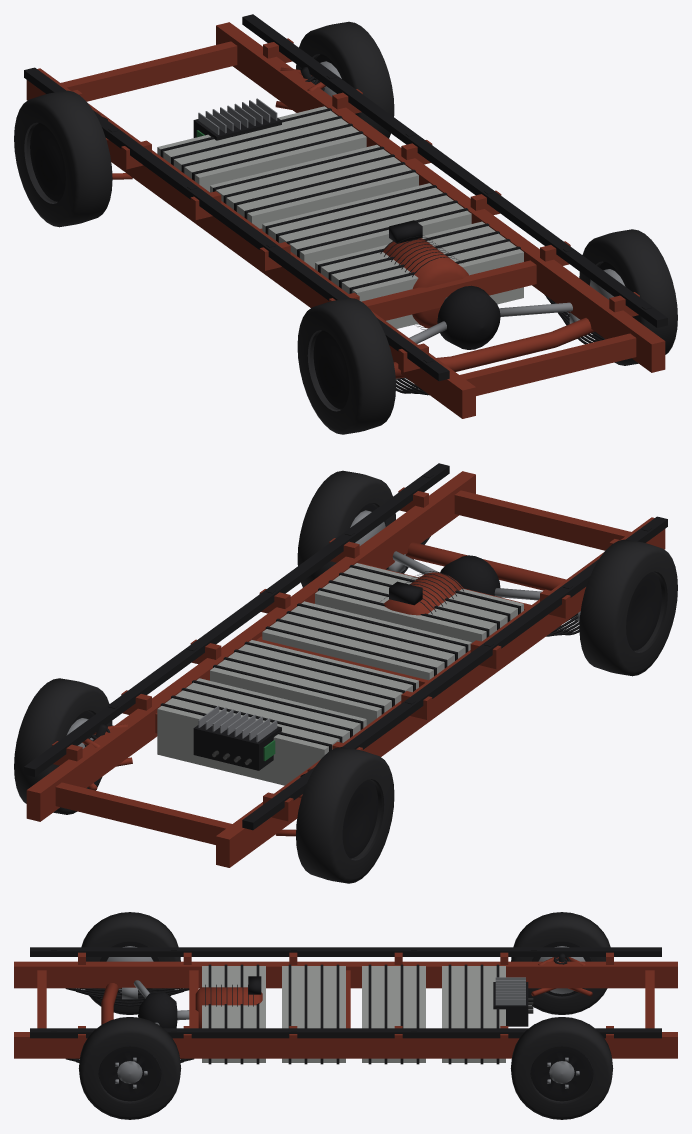
Rendered from harrow_h27.glb.
3 views of the same model, one above another, from view 1: azimuth 30°, elevation 25°; view 2: azimuth 150°, elevation 25°; view 3: azimuth 270°, elevation 25° (orthographic). The views are drawn at different scales.
Visible parts, largest first — view 1: rail_R, wheel_BL, wheel_FL, crate_1, crate_0, crate_2, mount_rail_R, crate_3, rail_L, mount_rail_L, wheel_BR, wheel_FR (+7 smaller); view 2: rail_R, wheel_FL, wheel_BL, crate_0, crate_1, crate_2, mount_rail_R, rail_L, crate_3, mount_rail_L, wheel_FR, wheel_BR (+6 smaller); view 3: rail_L, rail_R, wheel_BR, wheel_FR, mount_rail_L, mount_rail_R, crate_1, crate_2, wheel_FL, crate_0, wheel_BL, crate_3 (+9 smaller).
Part boxes in pixels (box(x1,y1,x2,y2)): rail_R: box(216, 22, 665, 372); wheel_BL: box(297, 298, 395, 434); wheel_FL: box(14, 90, 112, 227); crate_1: box(210, 144, 418, 228); crate_0: box(157, 106, 366, 191); crate_2: box(262, 183, 471, 268); mount_rail_R: box(242, 14, 667, 327); crate_3: box(315, 221, 523, 328); rail_L: box(26, 68, 475, 418); mount_rail_L: box(24, 67, 449, 381); wheel_BR: box(579, 229, 677, 365); wheel_FR: box(296, 21, 394, 138); rail_R: box(26, 471, 475, 821); wheel_FL: box(296, 747, 394, 883); wheel_BL: box(579, 539, 677, 676); crate_0: box(157, 678, 366, 785); crate_1: box(210, 640, 418, 725); crate_2: box(262, 601, 471, 680); mount_rail_R: box(24, 463, 449, 776); rail_L: box(216, 517, 665, 867); crate_3: box(315, 563, 523, 642); mount_rail_L: box(242, 516, 667, 830); wheel_FR: box(14, 678, 112, 814); wheel_BR: box(297, 470, 395, 587); rail_L: box(14, 961, 677, 988); rail_R: box(14, 1032, 677, 1058); wheel_BR: box(78, 1017, 181, 1119); wheel_FR: box(510, 1017, 613, 1119); mount_rail_L: box(30, 947, 661, 956); mount_rail_R: box(30, 1028, 661, 1038); crate_1: box(362, 964, 425, 1064); crate_2: box(282, 964, 345, 1064); wheel_FL: box(511, 912, 610, 1014); crate_0: box(442, 964, 505, 1064); wheel_BL: box(81, 912, 180, 1014); crate_3: box(202, 964, 265, 1064).
Bounding box in the file's own units: 1.75 × 0.64 × 4.15.
